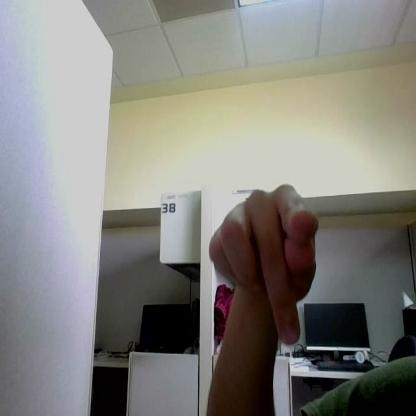P: (209, 184, 318, 346)
